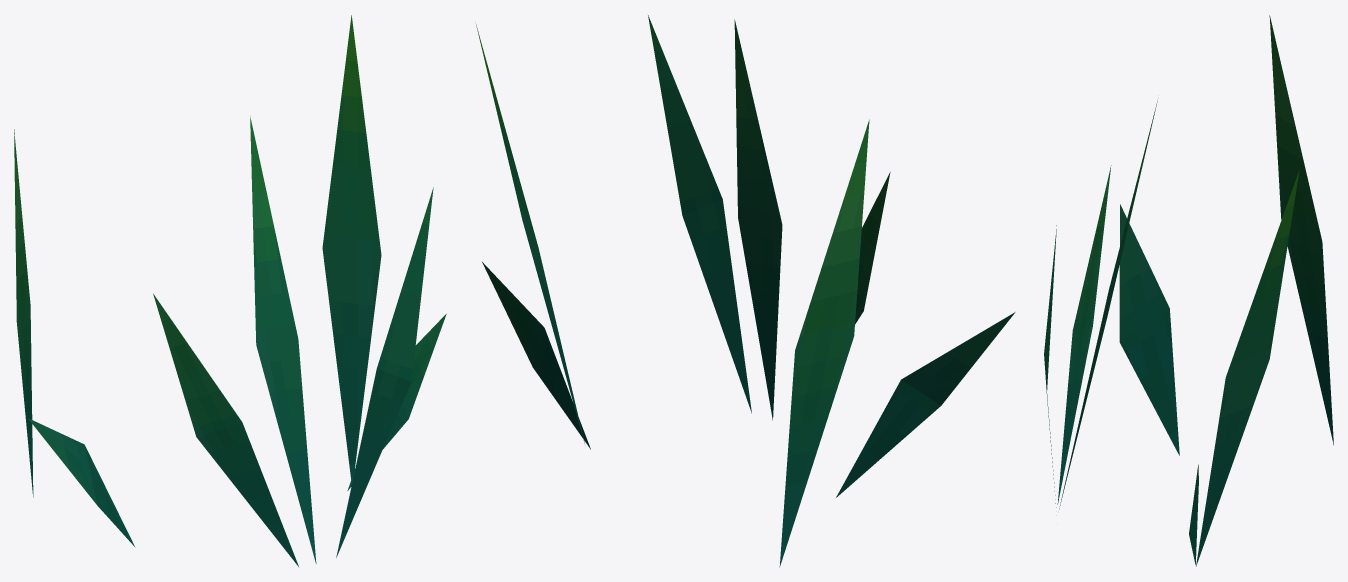
The model's file is plants_me_level_grass01.gltf.
3 renders of one model, left to right at view 1: azimuth 30°, elevation 25°; view 2: azimuth 150°, elevation 25°; view 3: azimuth 270°, elevation 25°, orthographic. The views are drawn at different scales.
Visible parts, largest first — view 1: um_plants_me_level_grass01_model_plants_me_level_grass01_mod; view 2: um_plants_me_level_grass01_model_plants_me_level_grass01_mod; view 3: um_plants_me_level_grass01_model_plants_me_level_grass01_mod.
Boxes of the visible parts, x1,y1,x2,y2 form: um_plants_me_level_grass01_model_plants_me_level_grass01_mod: (14,15,446,566); um_plants_me_level_grass01_model_plants_me_level_grass01_mod: (476,15,1015,567); um_plants_me_level_grass01_model_plants_me_level_grass01_mod: (1044,15,1333,566).
Bounding box in the file's own units: 0.4592 × 0.4072 × 0.2517.
Materials: 1 (1 with a texture image).
